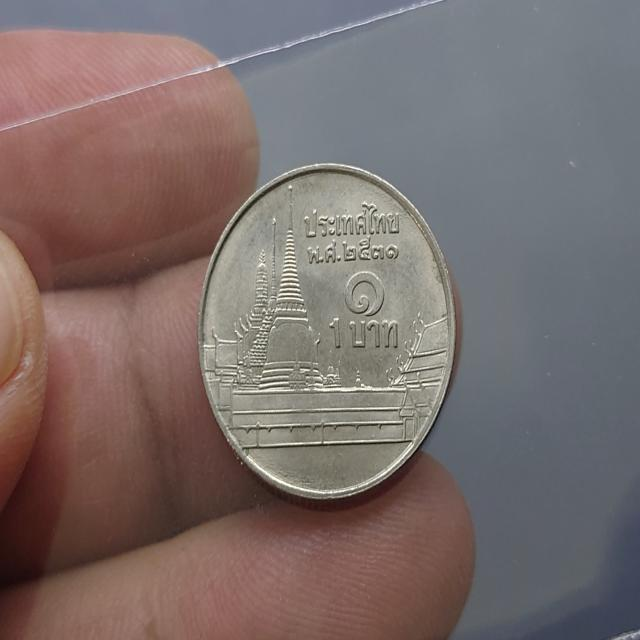1 Bath: (198, 152, 468, 515)
